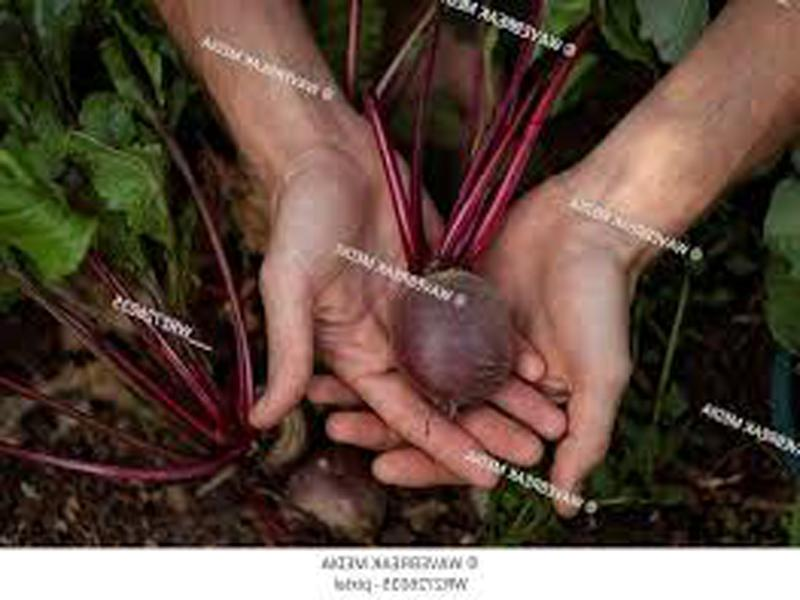Beet: (361, 12, 601, 419)
